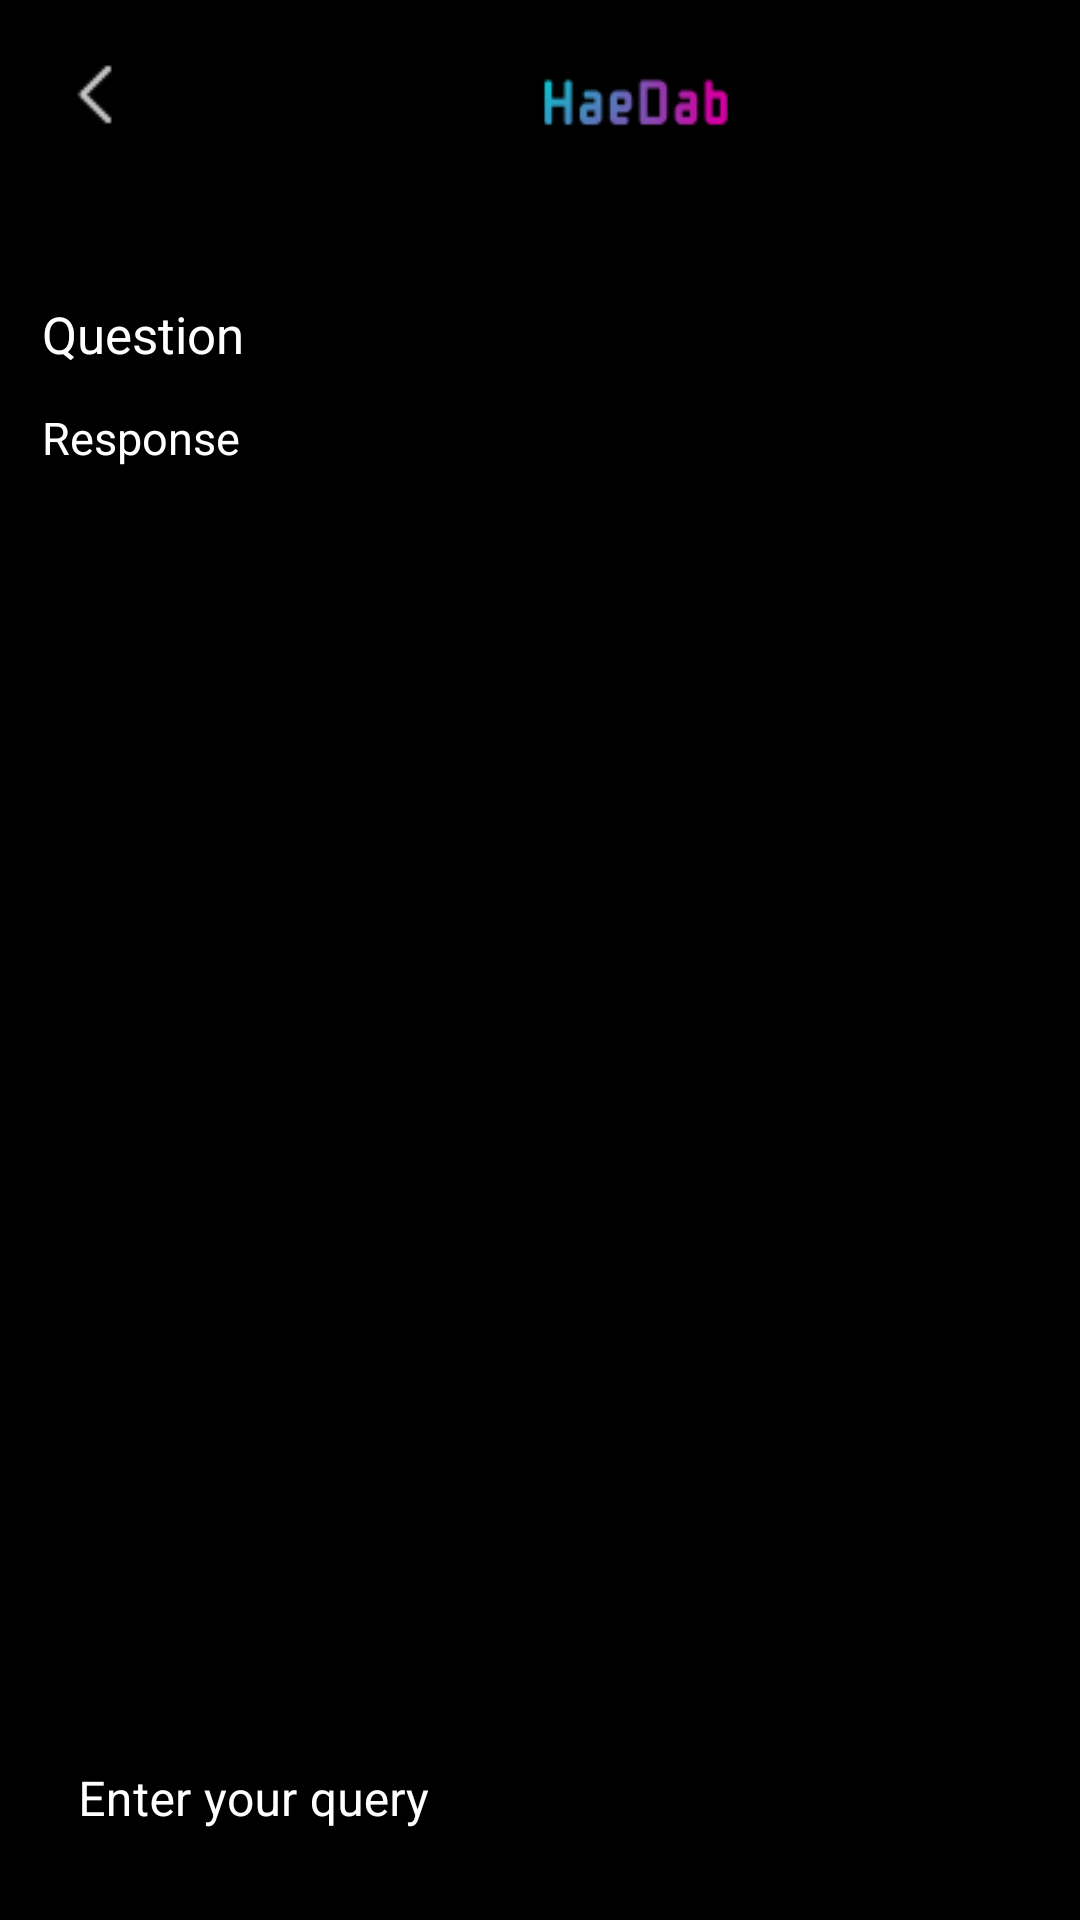

Where to tap for icons on this 1080x1920 app screen, as [x,y]:
back: [94,94]
